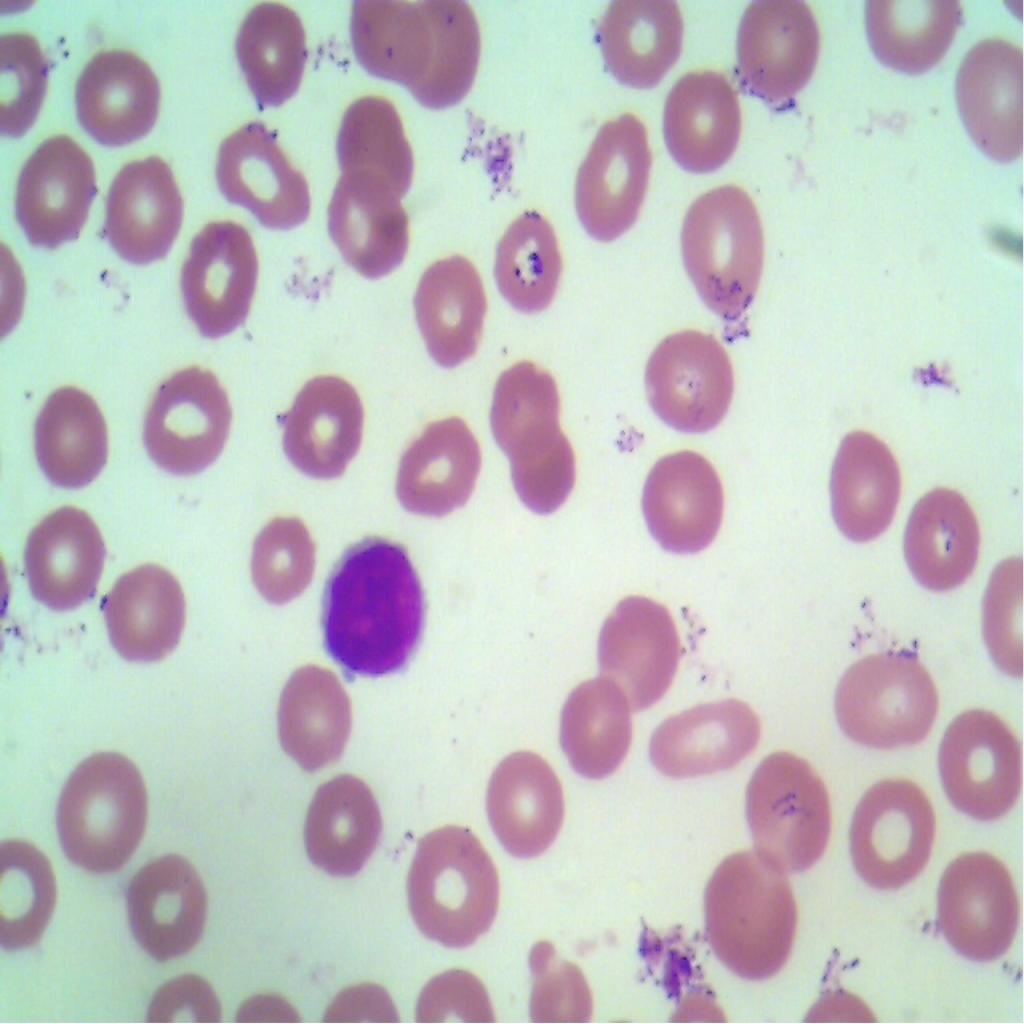Eritrosit: (689, 852, 808, 989), (48, 740, 164, 877), (560, 108, 662, 250), (938, 32, 1024, 197), (286, 762, 389, 898), (61, 32, 170, 158), (399, 815, 498, 950), (668, 195, 782, 312), (634, 319, 743, 438), (838, 752, 938, 879), (822, 641, 940, 748), (166, 210, 260, 340), (102, 154, 191, 291), (6, 130, 102, 257), (143, 371, 244, 491), (414, 242, 498, 385), (648, 61, 746, 183), (734, 748, 828, 874), (34, 362, 119, 500), (214, 122, 306, 248), (734, 0, 826, 125), (130, 845, 216, 977), (23, 512, 124, 624), (480, 194, 562, 328), (324, 88, 422, 200), (931, 688, 1023, 805), (936, 852, 1023, 975), (478, 744, 564, 868), (544, 672, 639, 784), (638, 438, 728, 555), (326, 174, 410, 299), (583, 589, 674, 704), (402, 0, 486, 124), (390, 415, 484, 524), (270, 657, 364, 762), (0, 830, 70, 967), (826, 418, 900, 547), (904, 479, 986, 595), (284, 378, 370, 488), (655, 696, 769, 778), (853, 0, 963, 82), (511, 420, 589, 534), (585, 0, 683, 85), (238, 506, 315, 608), (238, 0, 308, 109), (345, 0, 432, 87), (98, 584, 192, 664), (0, 26, 59, 140), (489, 354, 555, 451)
Limfoblast: (309, 532, 431, 688)
